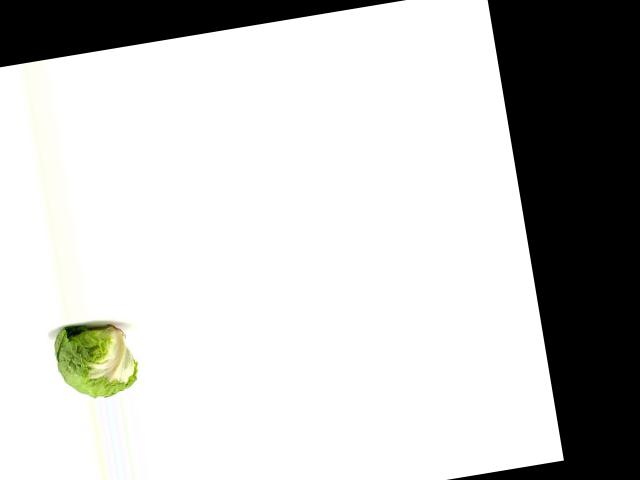lettuce: (48, 312, 143, 404)
